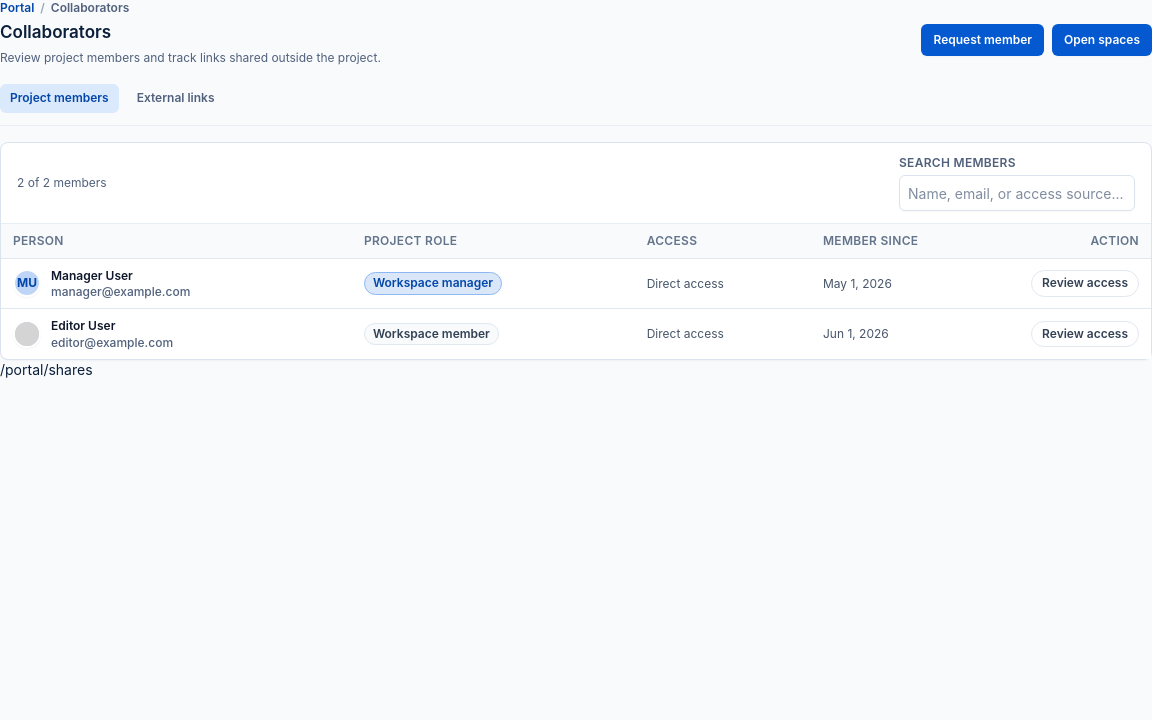
PortalSharesPage › submits project member addition requests from the members view
The width and height of the screenshot is (1152, 720).
Click the button "Request member".
click(983, 40)  # box [922,24,1044,56]
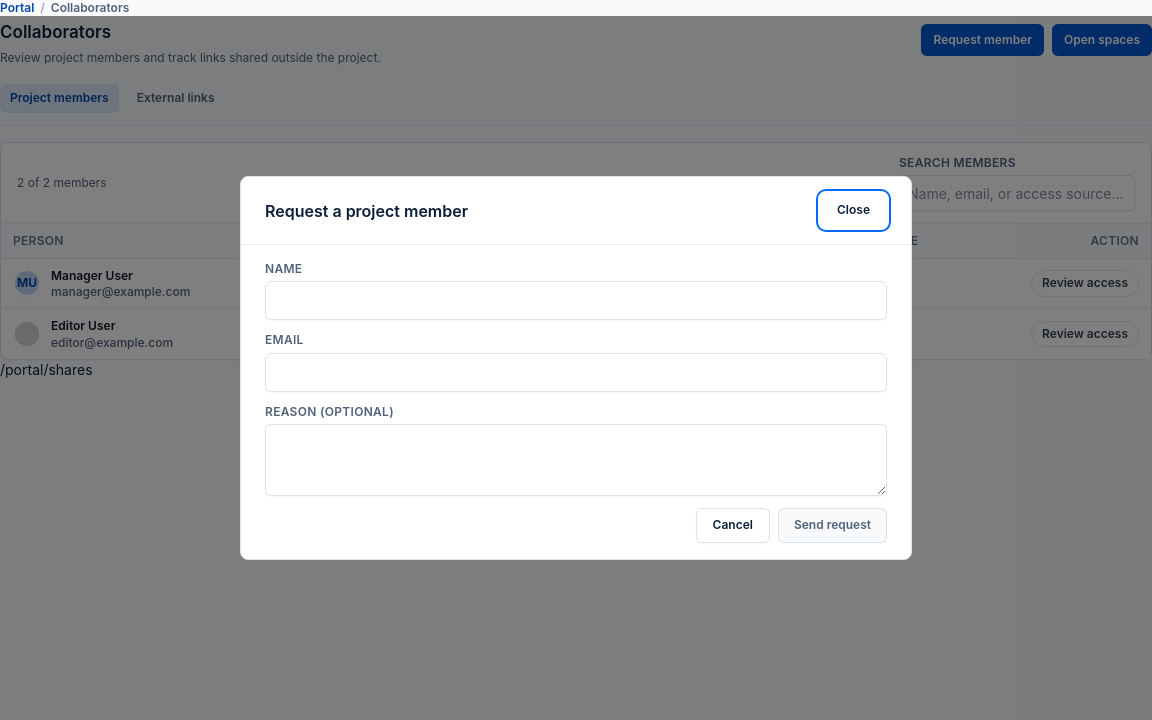
Type "New Member" into the field labelled "Name".
click(576, 301); type("New Member")  # box [265,281,887,320]
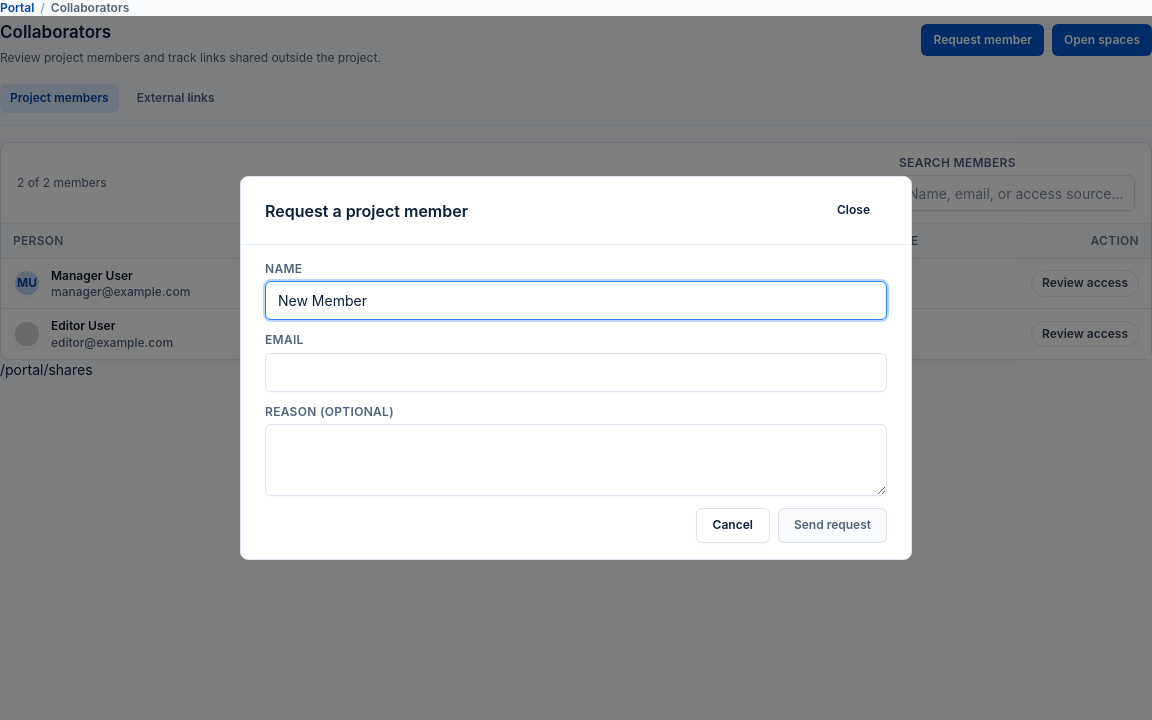
Type "new.member@example.org" into the field labelled "Email".
click(576, 372); type("new.member@example.org")  # box [265,353,887,392]
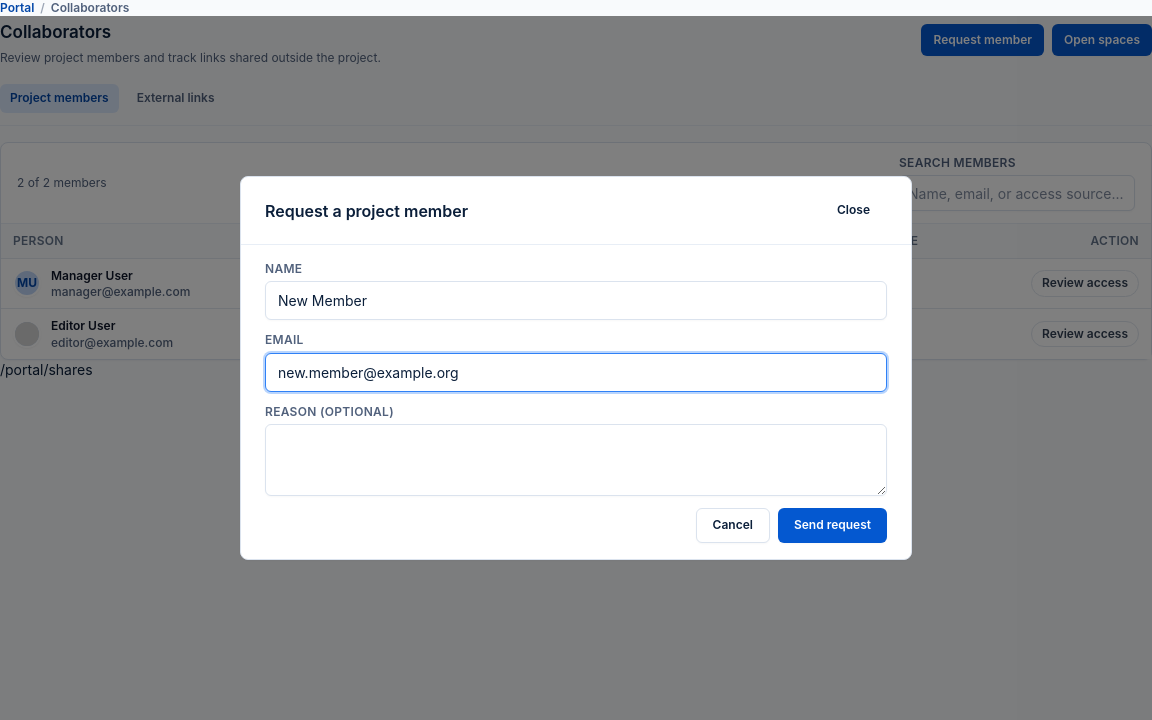
Type "Project onboarding" into the text box labelled "Reason (optional)".
click(576, 460); type("Project onboarding")  # box [265,424,887,496]
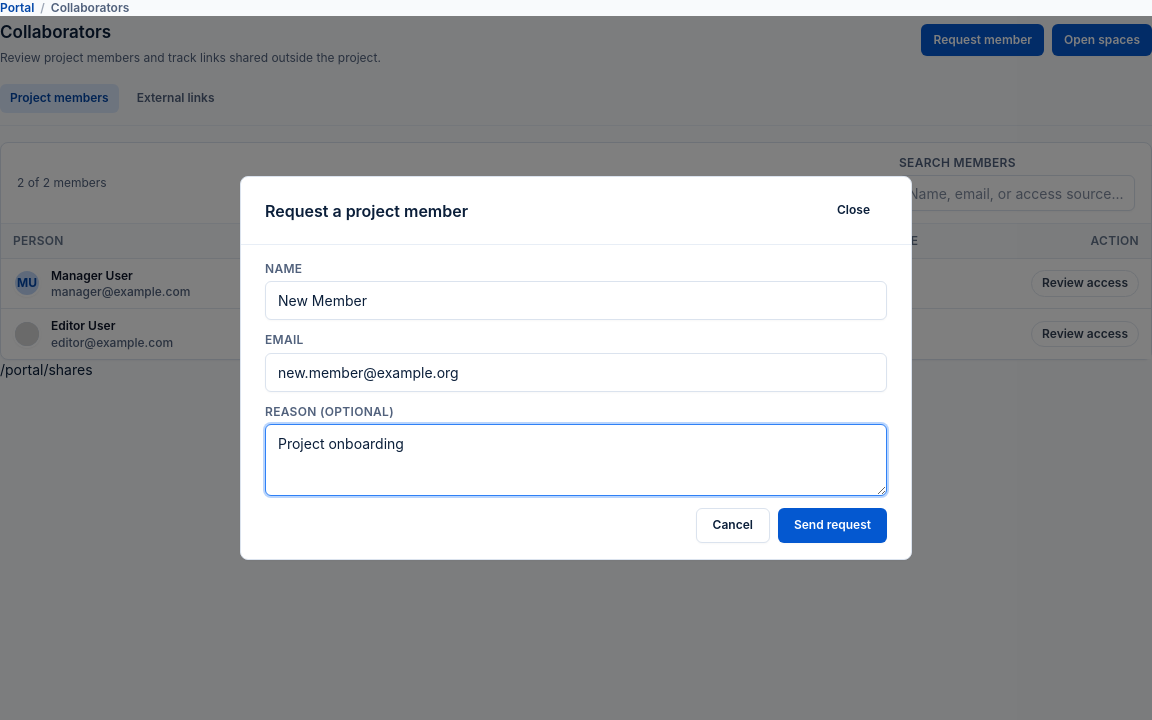
Click the button "Send request".
click(832, 526)  # box [778,508,887,543]
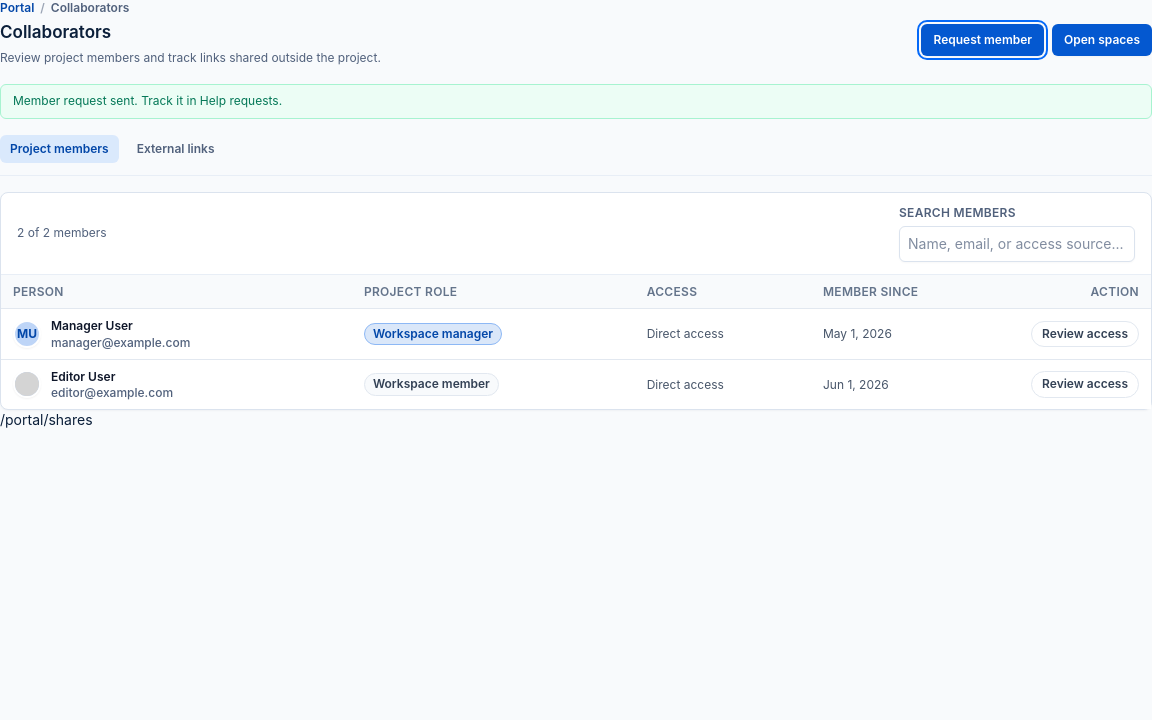
expect the text "Member request sent. Track it in Help requests." is shown: met, box [0,84,1151,118]
